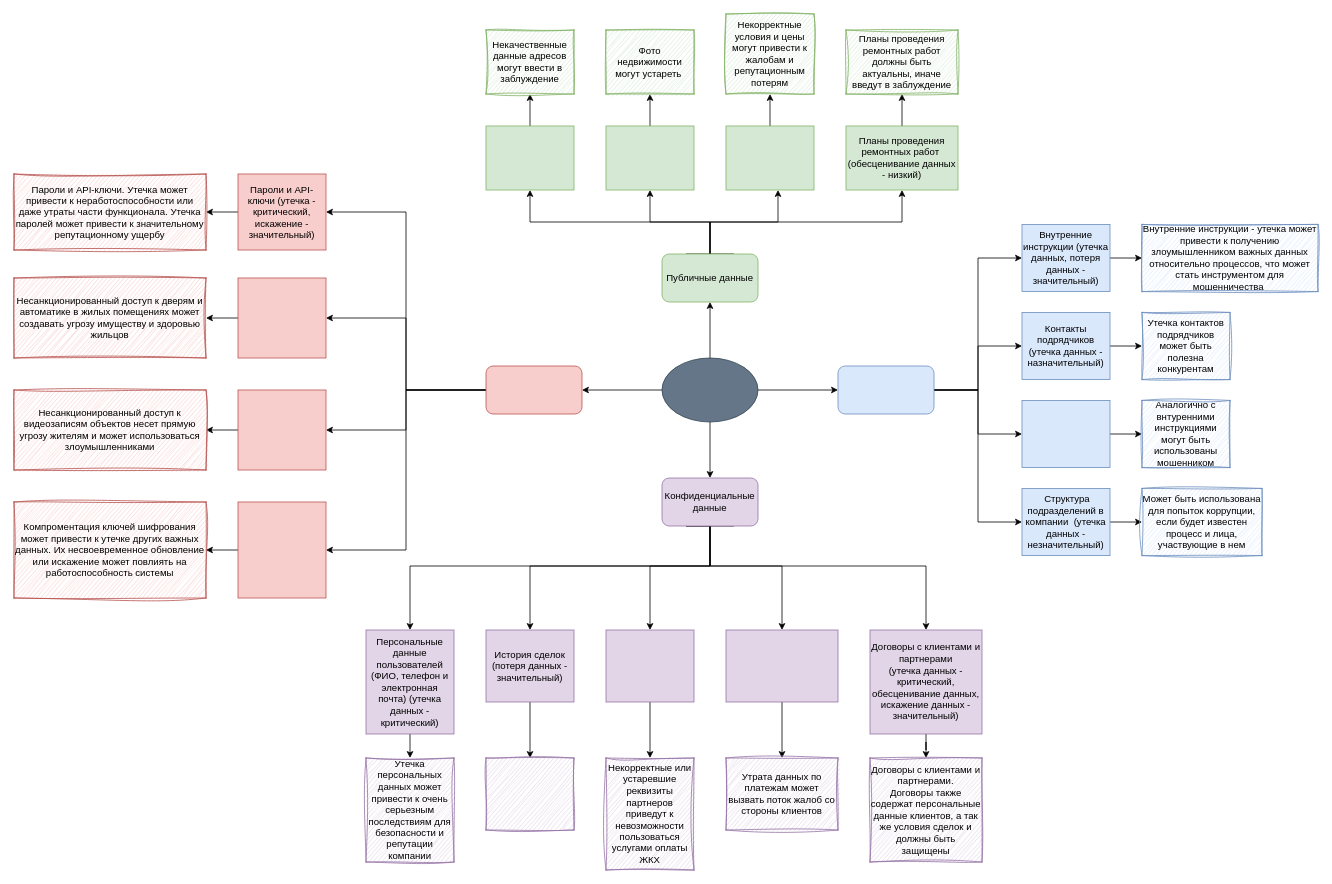
This 1332x884 diagram has some shape labels left out. Each missing label, with the centre of its shape:
Адреса и описания квартир (некачественные данные - незначительный): point 529,157
Банковские реквизиты (искажение данных - значительный): point 649,665
Безопасность данных: point 709,389
Внутренние данные: point 885,389
Доступ к видеонаблюдению (утечка - значительный, потеря - значительный): point 281,429
Доступ к управлению IoT-устройствами: point 281,317
Ключи шифрования (утечка - критический, искажение, обесценивание - значительный: point 281,549
Описания процессов (некачественные данные - незначительный): point 1065,434
Платежи по ЖКУ (потеря данных - значительный): point 781,665
Секретные данные: point 533,389
Условия и цены (некачественные данные - значительный): point 769,157
Утрата данных по сделкам может усложнить отчетность и обслуживание клиентов: point 529,793
Фото недвижимости (обесценивание - незначительный): point 649,157
